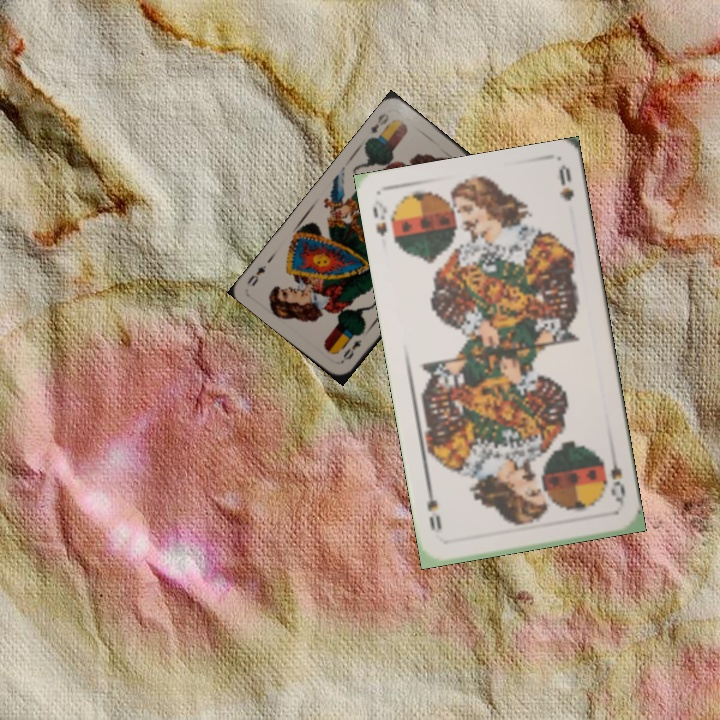EO: (338, 336, 364, 364), (367, 108, 391, 137)
SO: (606, 449, 628, 508), (368, 196, 390, 239)
